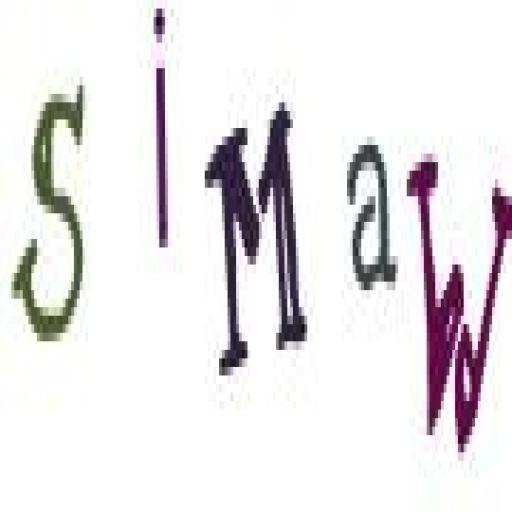M: (201, 85, 314, 394)
S: (8, 58, 97, 360)
W: (406, 136, 512, 464)
a: (341, 132, 403, 314)
i: (142, 0, 176, 265)
